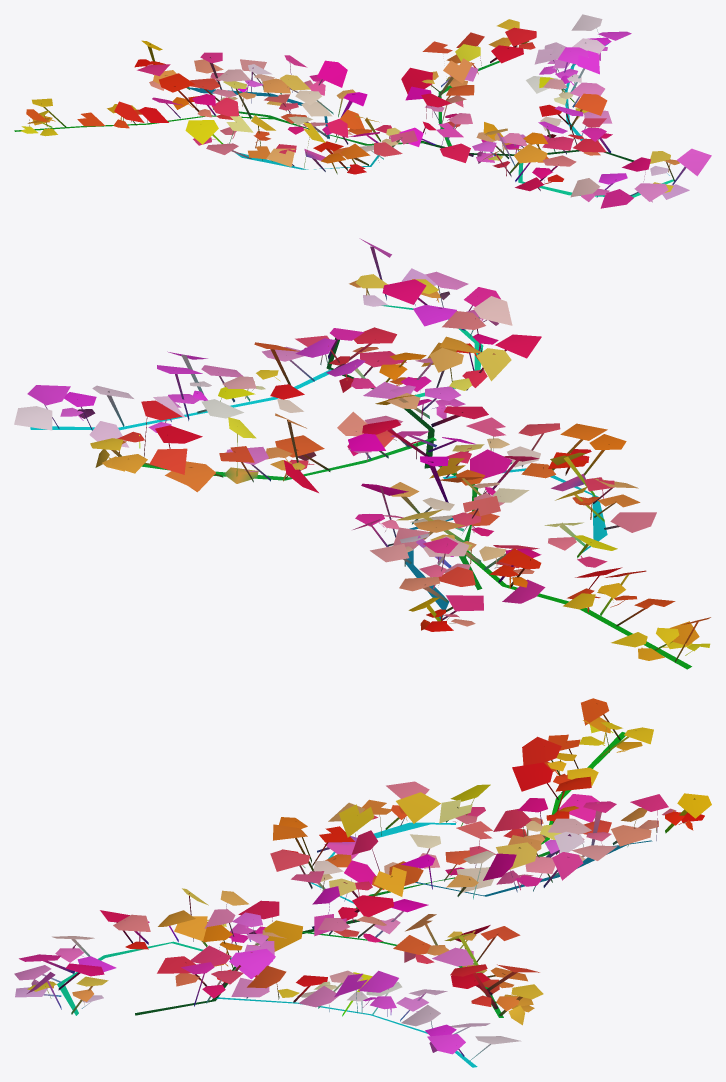
The model's file is English_Ivy_xfcnebhqx_Mid_xfcnebhqx_VarA_LOD2.fbx.
The picture shows the model from 3 angles, top to bottom: view 1: azimuth 30°, elevation 25°; view 2: azimuth 150°, elevation 25°; view 3: azimuth 270°, elevation 25°; orthographic projection. The views are drawn at different scales.
Visible parts, largest first — view 1: _31cw_VarA_LOD4; view 2: _31cw_VarA_LOD4; view 3: _31cw_VarA_LOD4.
Boxes of the visible parts, <box> form: _31cw_VarA_LOD4: <box>14,14,711,208</box>; _31cw_VarA_LOD4: <box>14,238,710,669</box>; _31cw_VarA_LOD4: <box>14,698,711,1067</box>.
Bounding box in the file's own units: 175 × 13.61 × 150.
